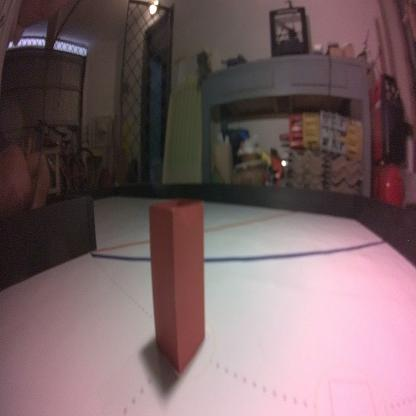red: (146, 197, 209, 374)
